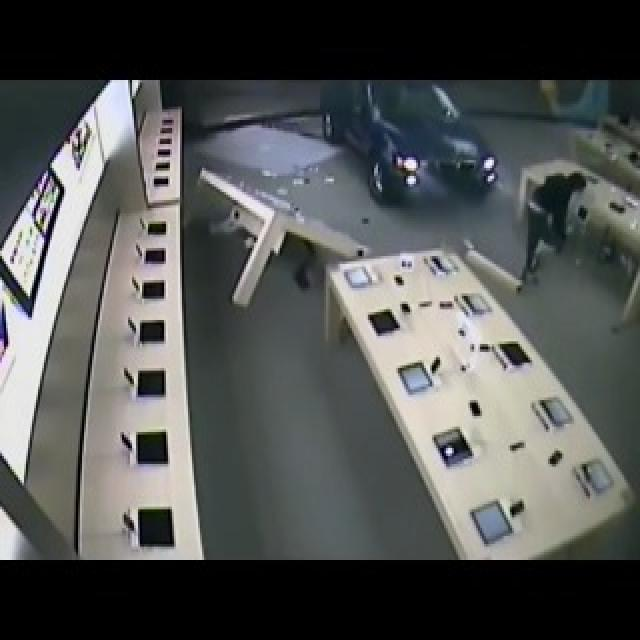thief: (521, 166, 583, 271)
